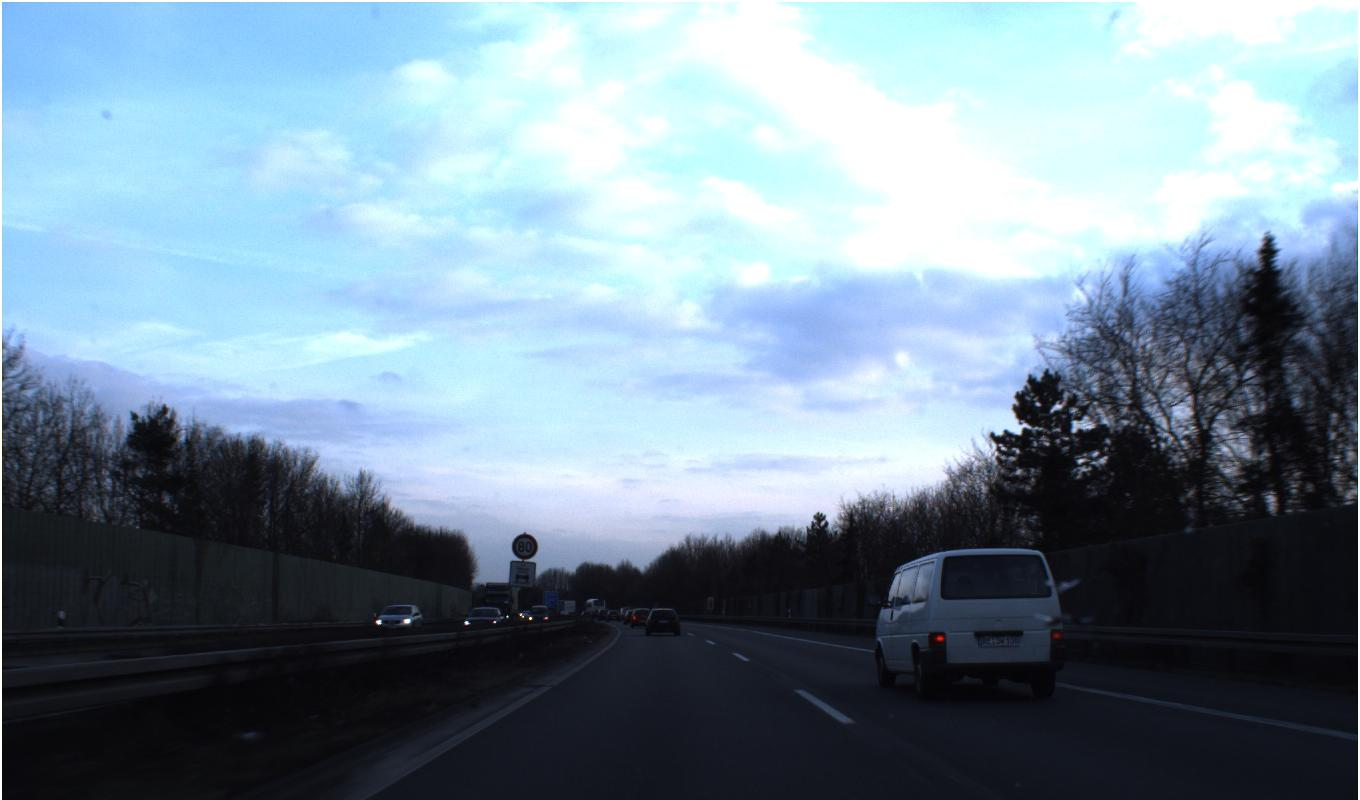prohibitory: (511, 533, 538, 560)
